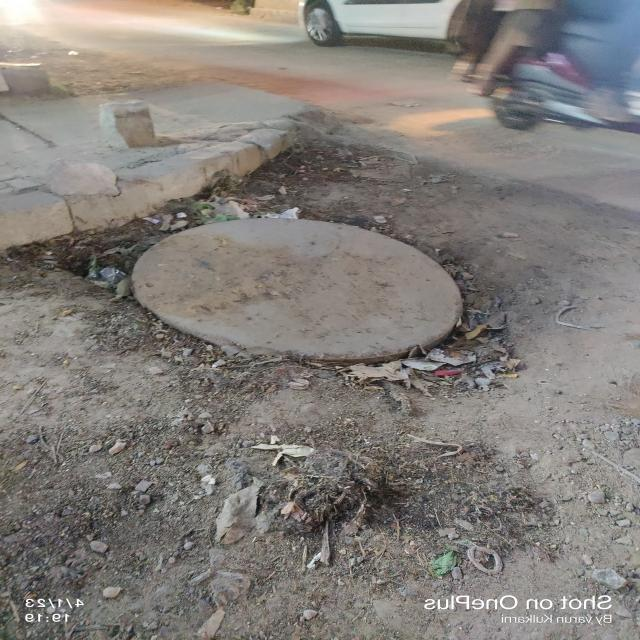potholes: (144, 185, 450, 386)
